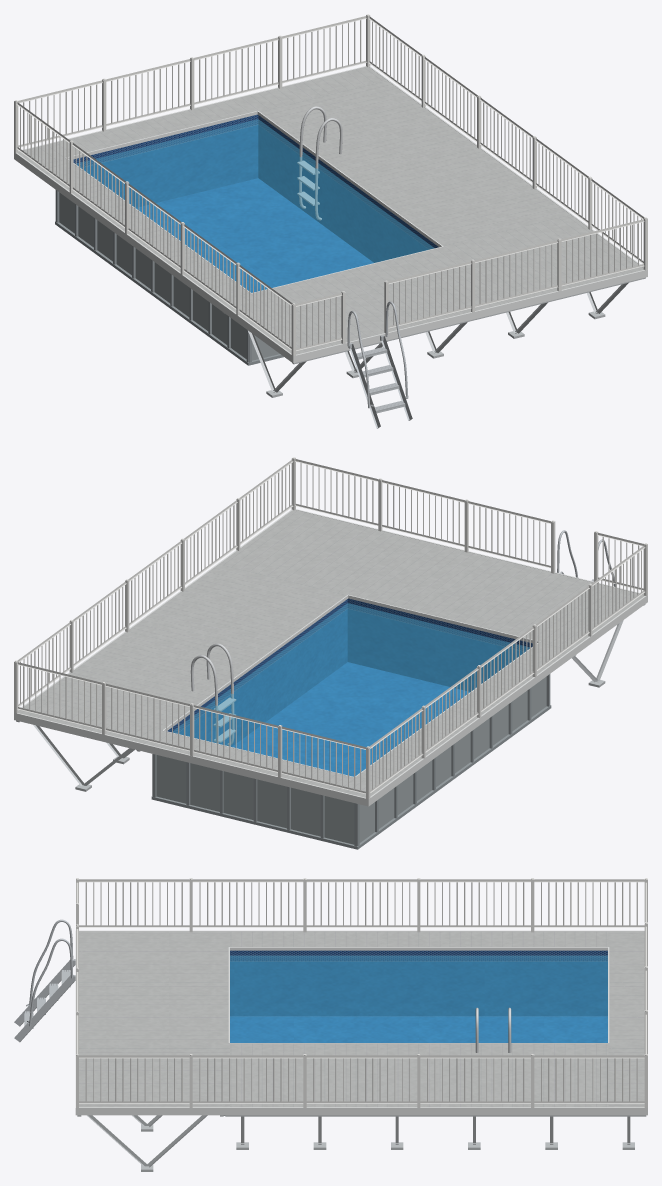
The model's file is kayak-pool-12x20-gray-endside-ag-fence.7faec9bad3.glb.
3 renders of one model, top to bottom at view 1: azimuth 30°, elevation 25°; view 2: azimuth 150°, elevation 25°; view 3: azimuth 270°, elevation 25°, orthographic. The views are drawn at different scales.
Visible parts, largest first — view 1: deck, water, fence, liner_wall, liner_floor, fascia, wall, upright, stud, ladder, steel; view 2: deck, fence, water, liner_wall, wall, liner_floor, fascia, upright, stud, steel; view 3: deck, water, liner_wall, fence, liner_floor, fascia, stud, ladder.
Boxes of the visible parts, <box> form: deck: <box>17,67,643,354</box>; water: <box>76,119,434,292</box>; fence: <box>14,14,647,356</box>; liner_wall: <box>73,114,438,262</box>; liner_floor: <box>136,178,373,292</box>; fascia: <box>14,66,647,363</box>; wall: <box>59,192,279,360</box>; upright: <box>55,190,283,365</box>; stud: <box>222,277,645,397</box>; ladder: <box>347,301,412,428</box>; steel: <box>297,106,342,220</box>; deck: <box>18,510,644,797</box>; fence: <box>14,457,647,799</box>; water: <box>173,603,529,776</box>; liner_wall: <box>167,598,532,746</box>; wall: <box>156,676,546,844</box>; liner_floor: <box>232,662,469,776</box>; fascia: <box>14,509,647,806</box>; upright: <box>151,674,551,849</box>; stud: <box>16,604,645,791</box>; steel: <box>190,643,236,745</box>; deck: <box>79,931,644,1107</box>; water: <box>230,955,607,1042</box>; liner_wall: <box>230,950,607,1016</box>; fence: <box>76,878,647,1107</box>; liner_floor: <box>230,1016,607,1042</box>; fascia: <box>75,930,647,1115</box>; stud: <box>77,1115,646,1171</box>; ladder: <box>14,919,75,1042</box>.
Bounding box in the file's own units: 6.71 × 2.15 × 10.13.
11 materials, 3 textured.
